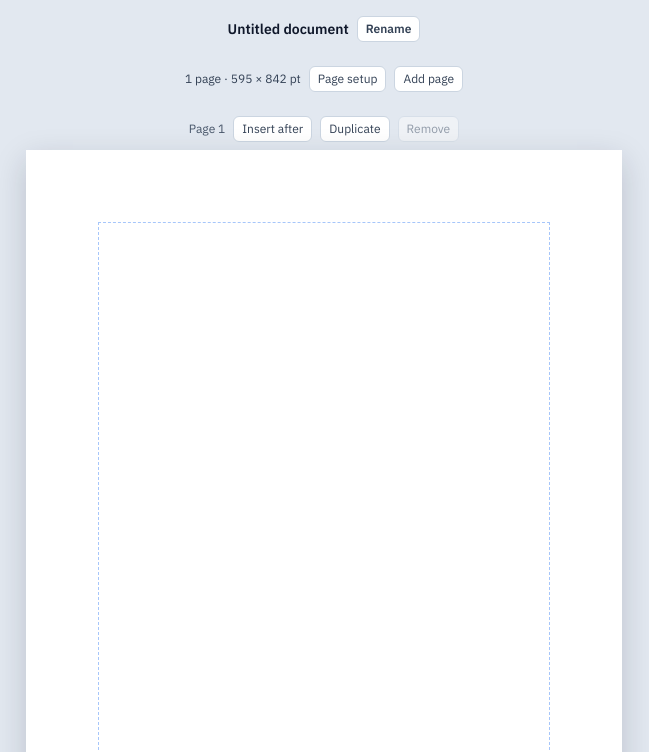
Test case: WriterBlankDocumentCanvas › adds a new page from top controls
What coordinates should you click on to do the following:
click the button with test id "writer-blank-document-add-page-button"
I would click on:
 (429, 79)
Its box is [394,66,463,92].
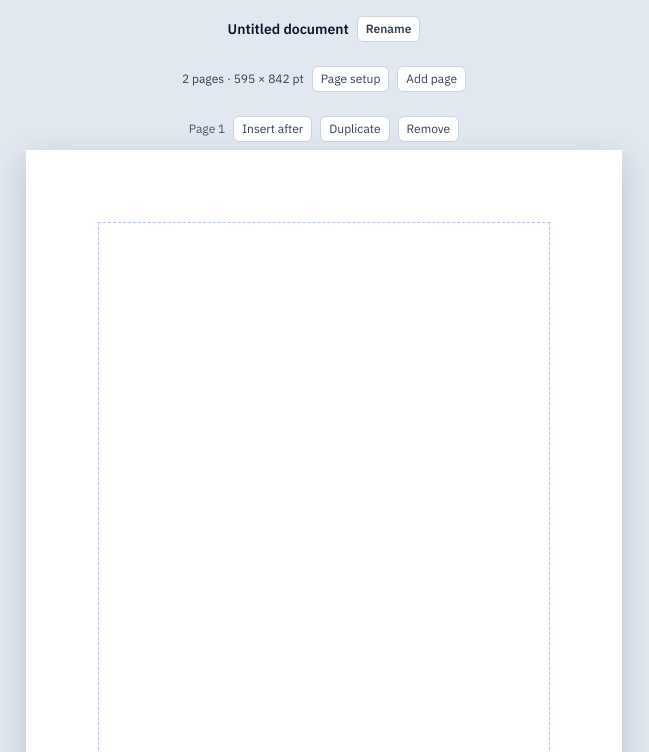
expect the number of elements with test id "writer-blank-document-page-frame" is 2: met
